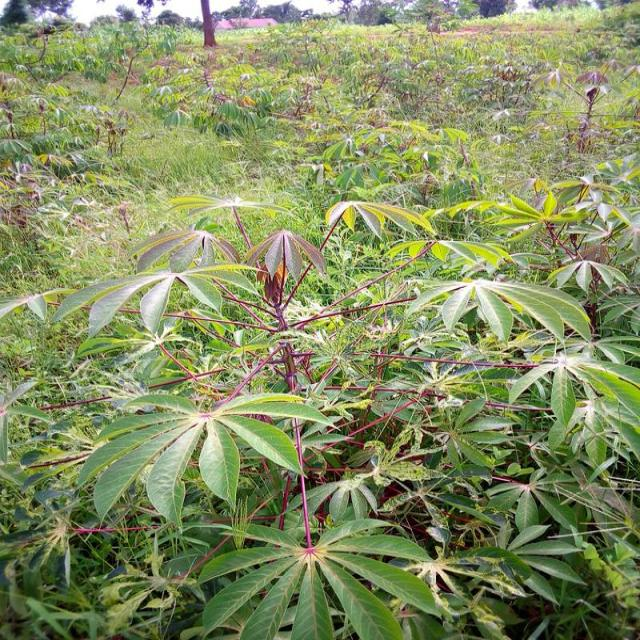cassava leaf: (78, 386, 331, 529)
